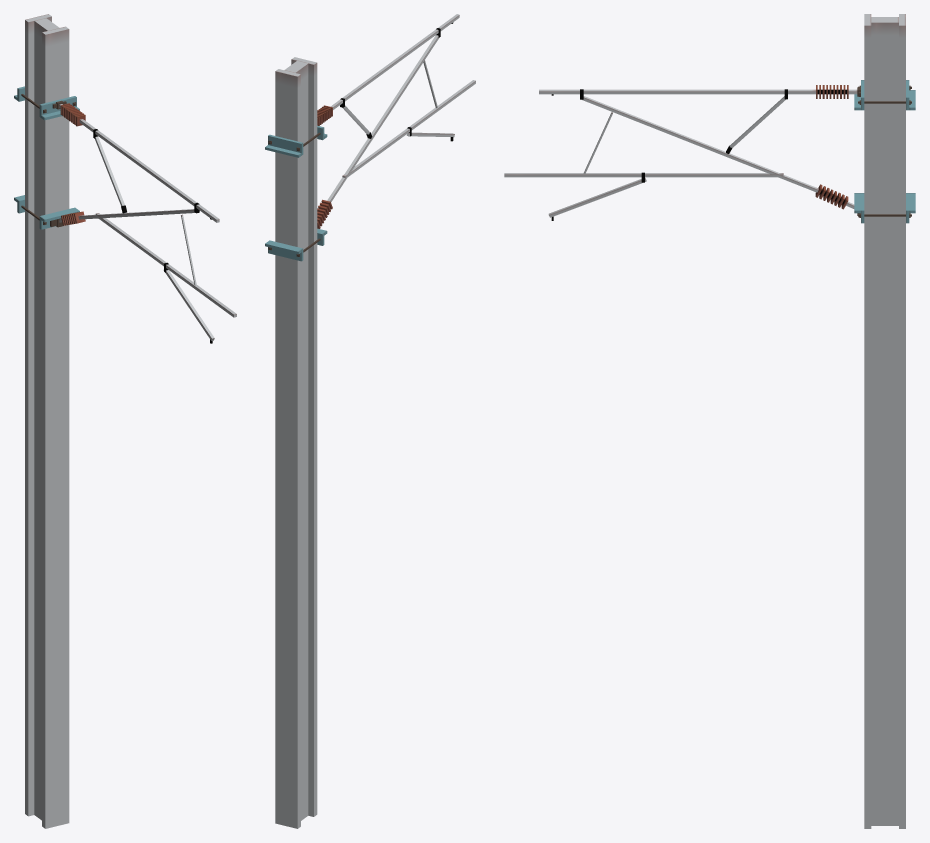
File: catenary_a.obj
3 views of the same model, side by side, from view 1: azimuth 30°, elevation 25°; view 2: azimuth 150°, elevation 25°; view 3: azimuth 270°, elevation 25° (orthographic). The views are drawn at different scales.
Visible parts, largest first — view 1: catenary; view 2: catenary; view 3: catenary.
Part boxes in pixels (bbox=[...]): catenary: bbox=[14, 14, 236, 828]; catenary: bbox=[265, 14, 475, 828]; catenary: bbox=[504, 14, 915, 828].
Bounding box in the file's own units: 0.375 × 8 × 3.71.
1 material, 1 textured.
